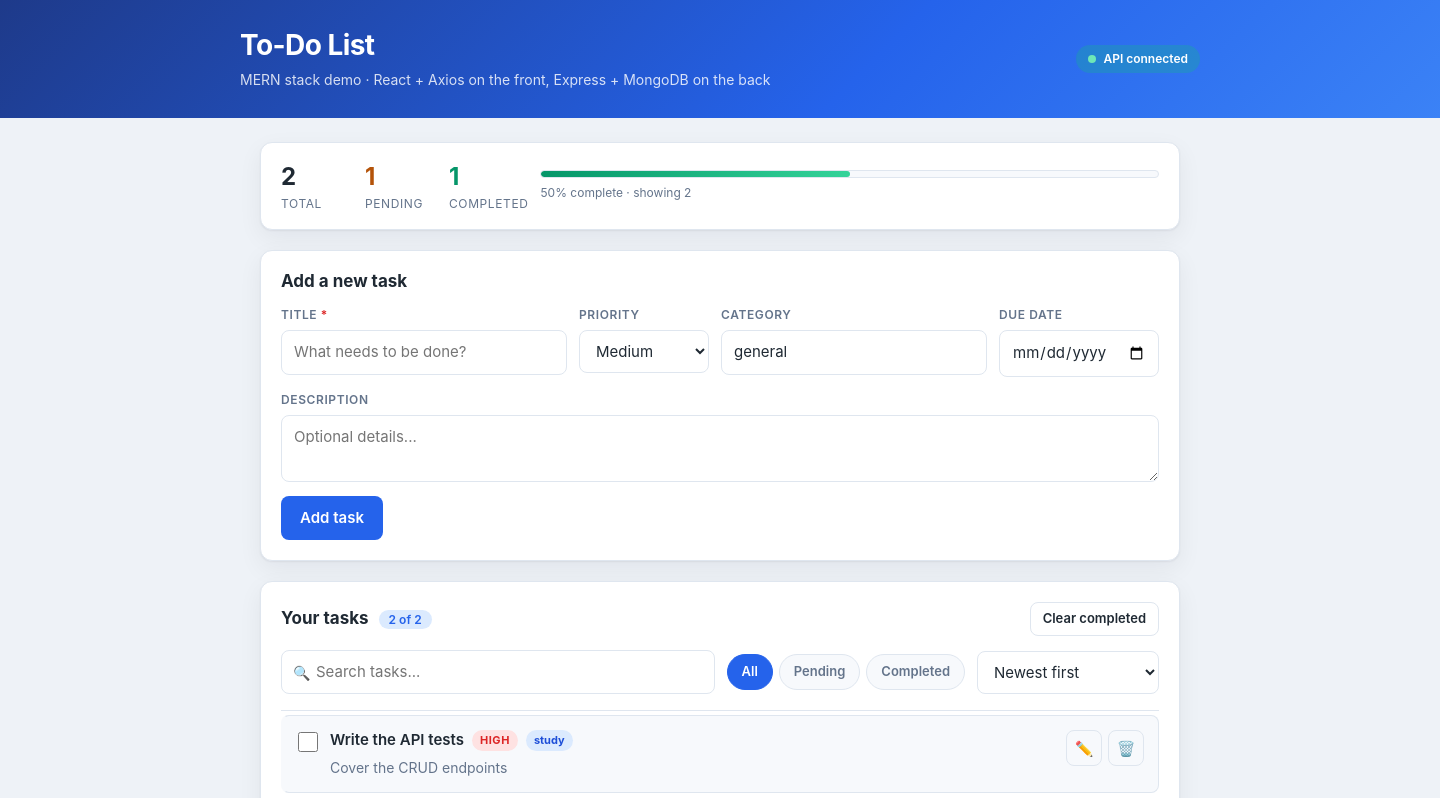
Test case: App - creating a task › surfaces a backend validation error returned by the API
The image size is (1440, 798).
Check: the heading "Write the API tests" is shown, box top-left (330, 731), bottom-right (464, 750)
Type "Buy groceries" into the field labelled "Title *" at [424, 353], box top-left (281, 330), bottom-right (567, 375)
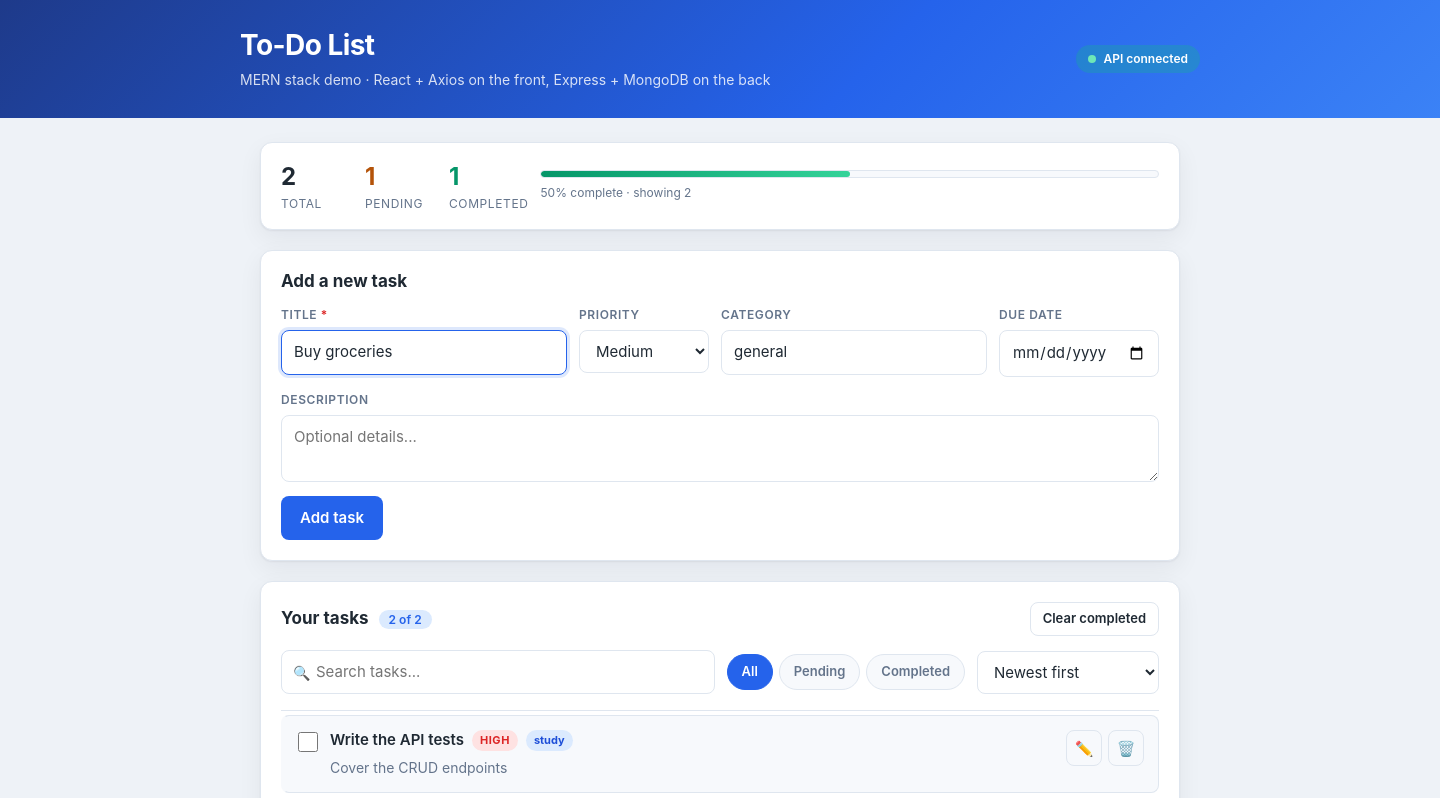
Click the button "Add task" at [332, 518], box top-left (281, 496), bottom-right (383, 540)
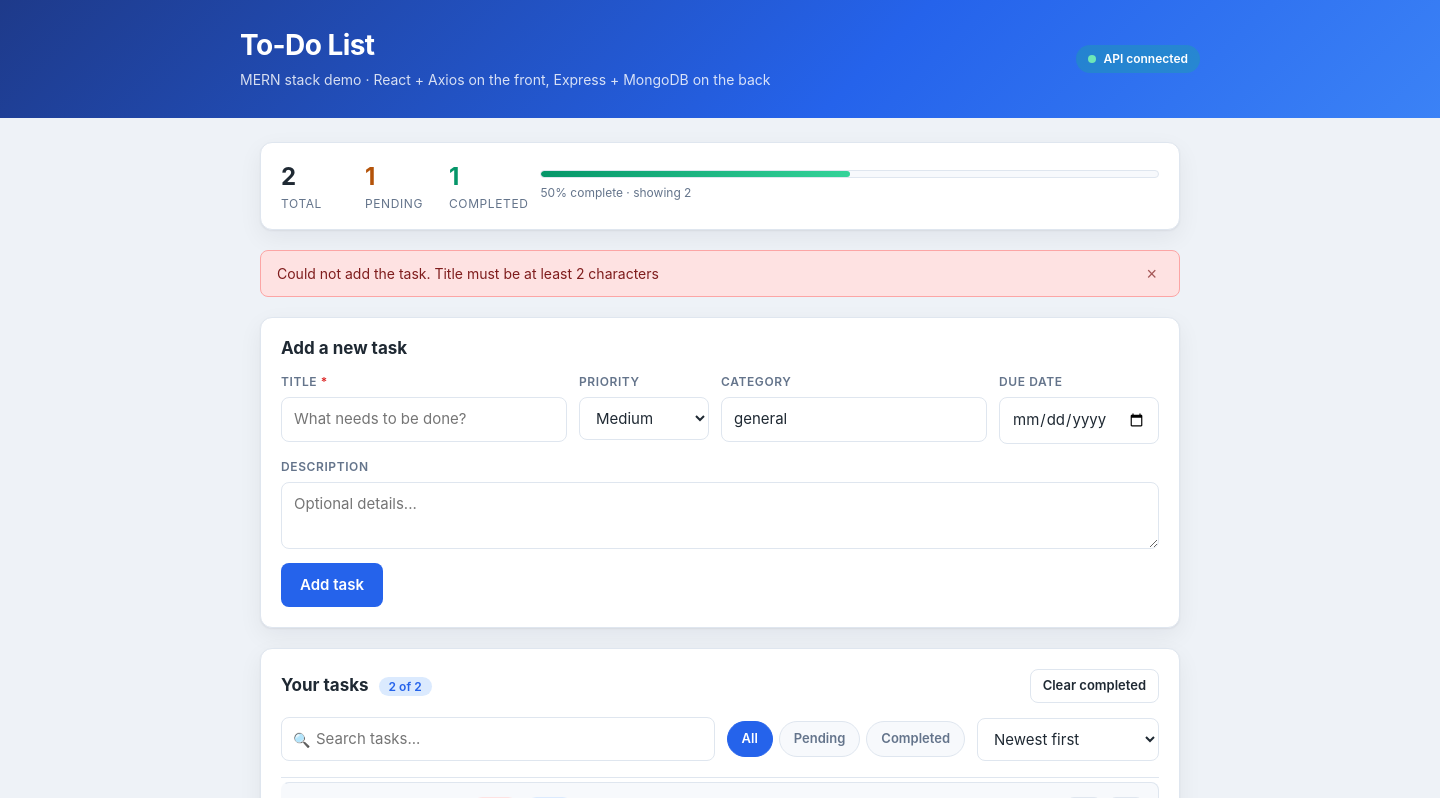
Check: the message "Could not add the task. Title must be at least 2 characters ×" is shown, box top-left (260, 250), bottom-right (1180, 297)
